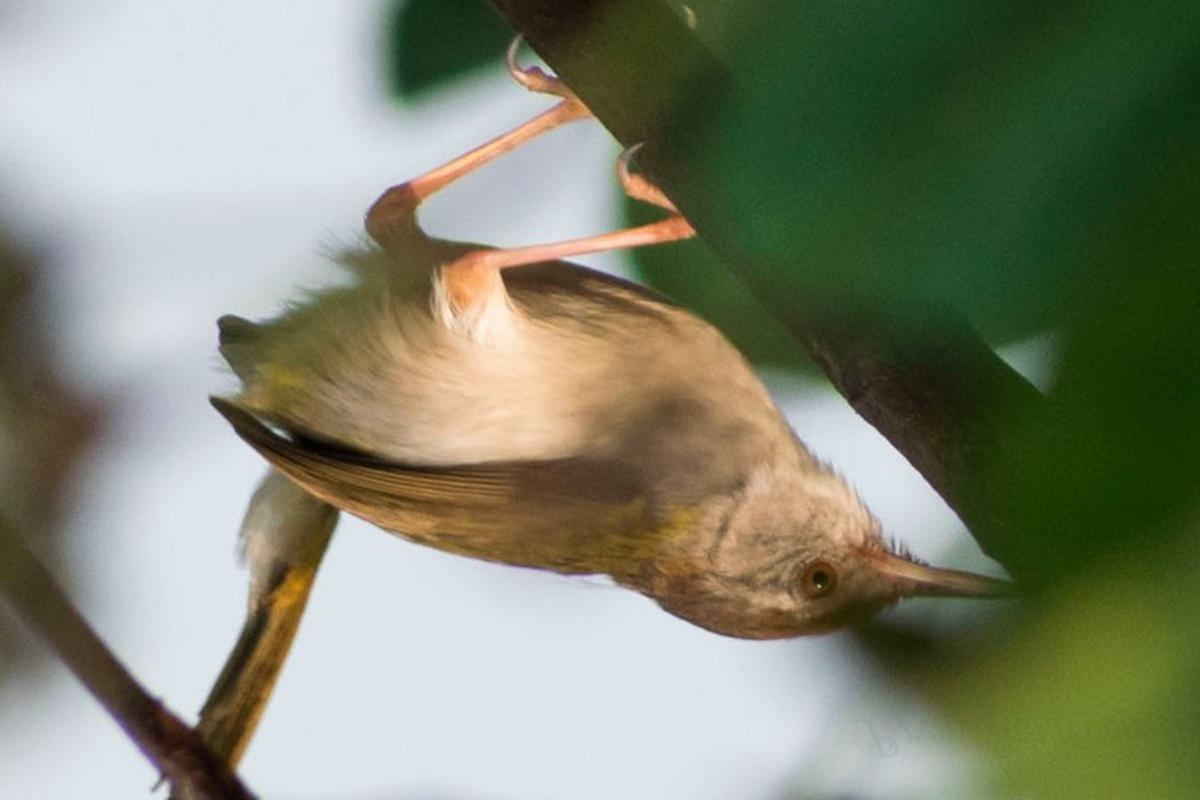tailorbird: (156, 133, 1091, 785)
